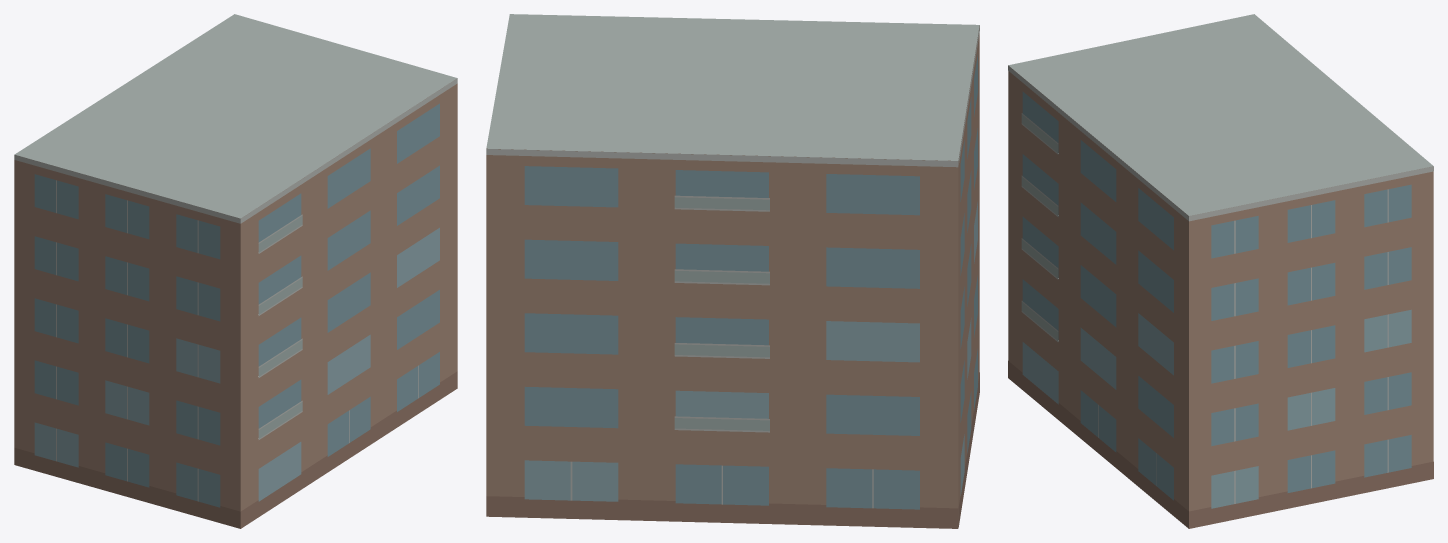
File: survey-upis-32739009.glb
3 renders of one model, left to right at view 1: azimuth 30°, elevation 25°; view 2: azimuth 150°, elevation 25°; view 3: azimuth 270°, elevation 25°, orthographic. The views are drawn at different scales.
Visible parts, largest first — view 1: survey-upis-32739009.tmp; view 2: survey-upis-32739009.tmp; view 3: survey-upis-32739009.tmp.
Part boxes in pixels (x1,y1,x2,y2): survey-upis-32739009.tmp: [14, 14, 457, 528]; survey-upis-32739009.tmp: [486, 14, 979, 528]; survey-upis-32739009.tmp: [1008, 14, 1433, 528].
Bounding box in the file's own units: 19.96 × 14.4 × 17.77.
